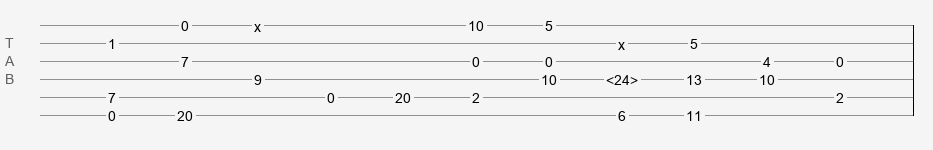0: (108, 108, 116, 118), (181, 18, 189, 28), (327, 90, 335, 100), (472, 54, 480, 64), (545, 54, 553, 64), (836, 54, 844, 64)
1: (108, 36, 116, 46)
10: (468, 18, 484, 28), (541, 72, 557, 82), (759, 72, 775, 82)
11: (686, 108, 702, 118)
13: (686, 72, 702, 82)
2: (472, 90, 480, 100), (836, 90, 844, 100)
20: (177, 108, 193, 118), (395, 90, 411, 100)
4: (763, 54, 771, 64)
5: (545, 18, 553, 28), (690, 36, 698, 46)
6: (618, 108, 626, 118)
7: (108, 90, 116, 100), (181, 54, 189, 64)
9: (254, 72, 262, 82)
harmonic: (606, 72, 638, 82)
x: (254, 19, 261, 27), (618, 37, 625, 45)
